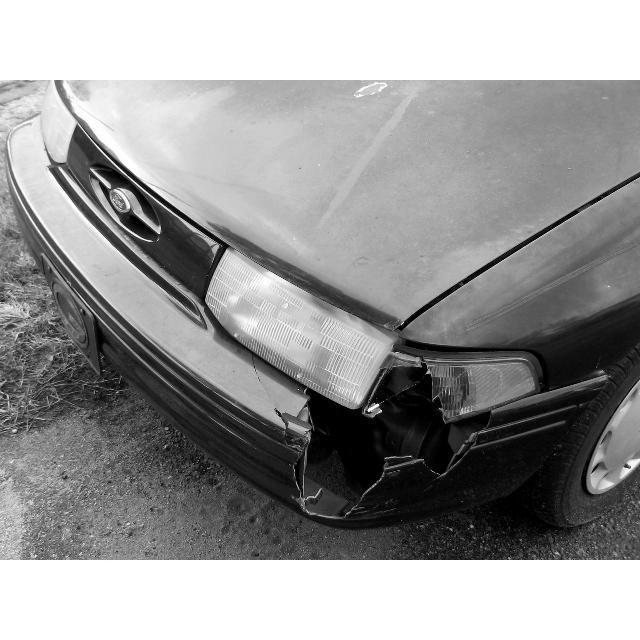Headlight-damage: (190, 253, 574, 430)
front-bumper-dent: (115, 373, 552, 530)
